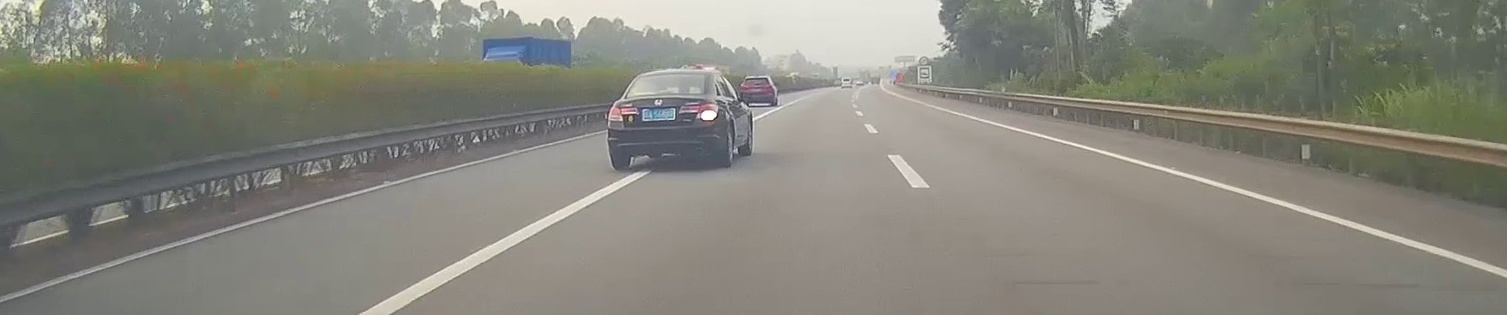L_light: (608, 106, 638, 122), (741, 85, 748, 90)
R_light: (679, 104, 719, 121), (765, 84, 773, 89)
T_light: (660, 72, 679, 75), (753, 78, 761, 79)
day-no: (738, 76, 777, 107)
day-right: (606, 69, 729, 172)
